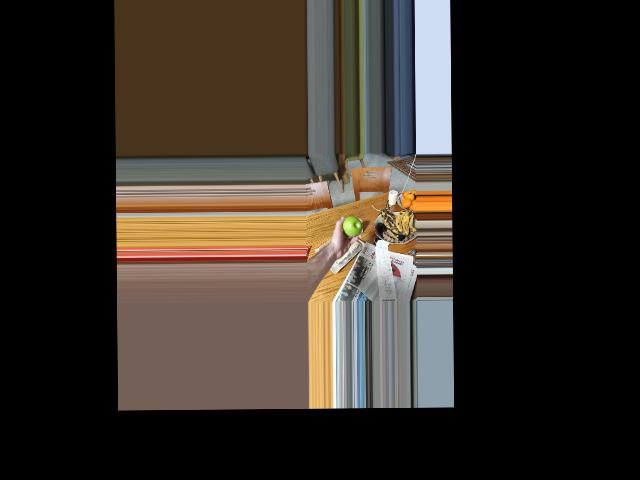apple: (342, 215, 361, 238)
